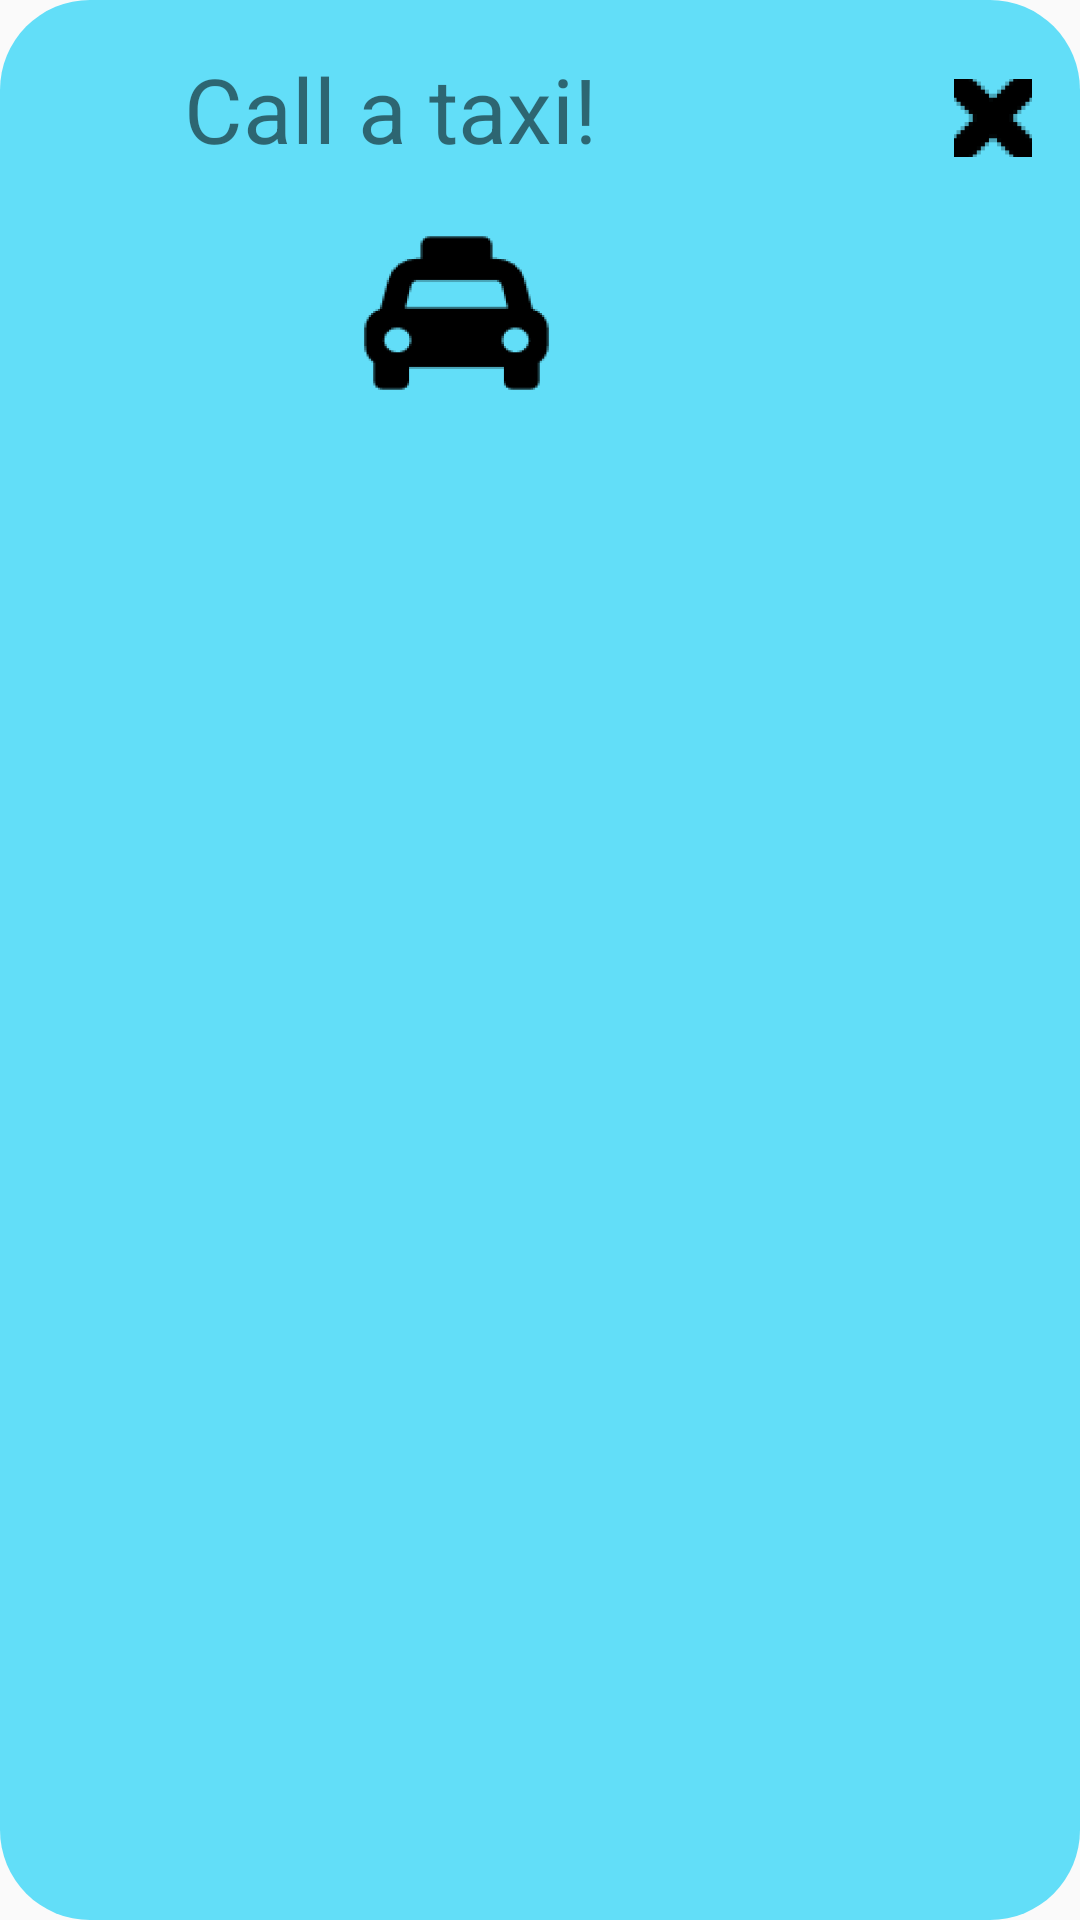

Named icons in this screenshot (1080×1920) and their bounding boxes, (x1, y1, x2, y2):
close: (954, 79, 1032, 157)
